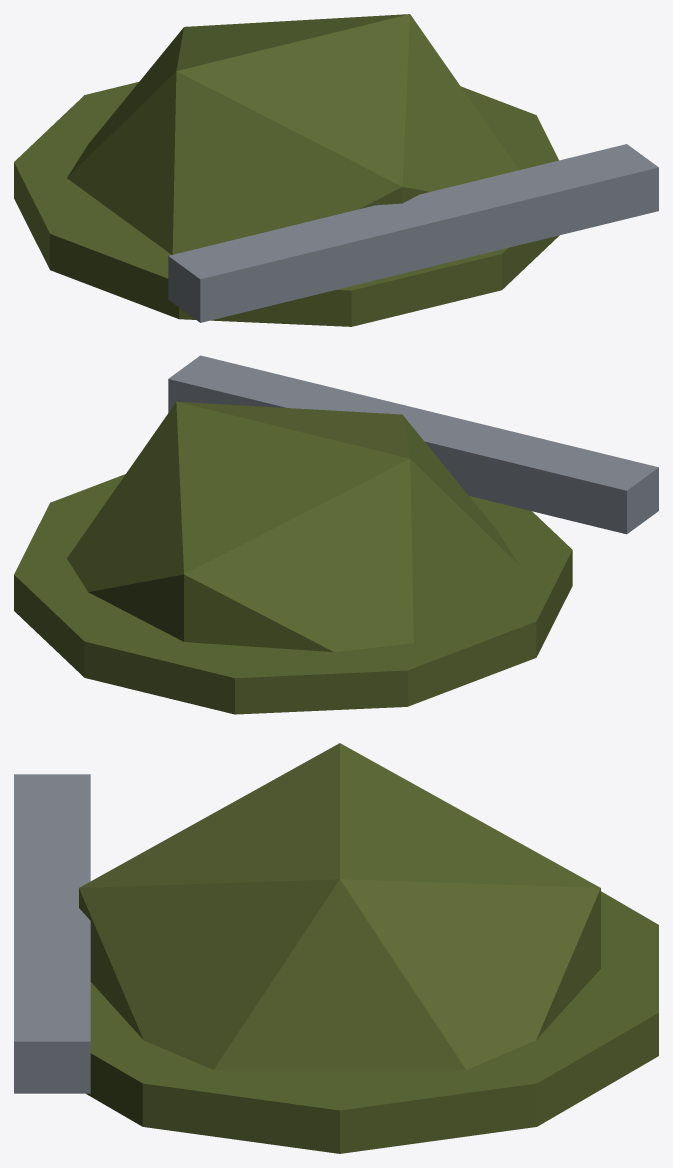
The model's file is helmet_lv1.glb.
3 views of the same model, one above another, from view 1: azimuth 30°, elevation 25°; view 2: azimuth 150°, elevation 25°; view 3: azimuth 270°, elevation 25° (orthographic). The views are drawn at different scales.
Visible parts, largest first — view 1: model; view 2: model; view 3: model.
Part boxes in pixels (left/top/right/bottom): model: left=14, top=14, right=658, bottom=326; model: left=14, top=355, right=658, bottom=714; model: left=14, top=743, right=658, bottom=1153.
Bounding box in the file's own units: 0.35 × 0.1157 × 0.3364.
